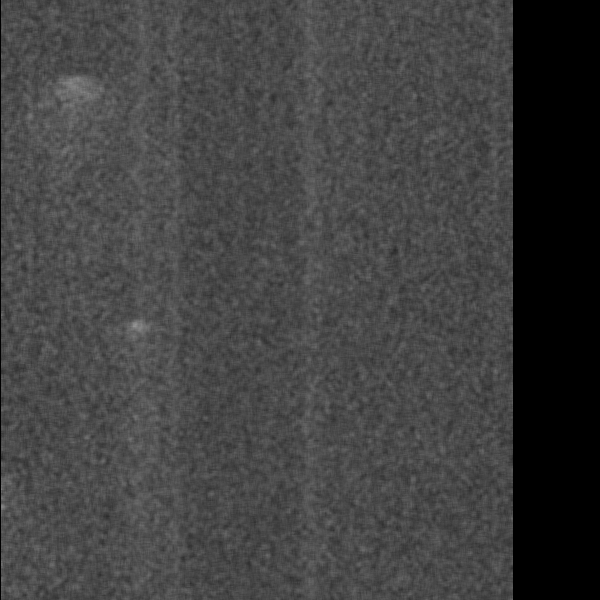spark: (465, 379, 511, 469), (474, 32, 508, 140), (115, 286, 142, 338), (351, 369, 381, 413)
